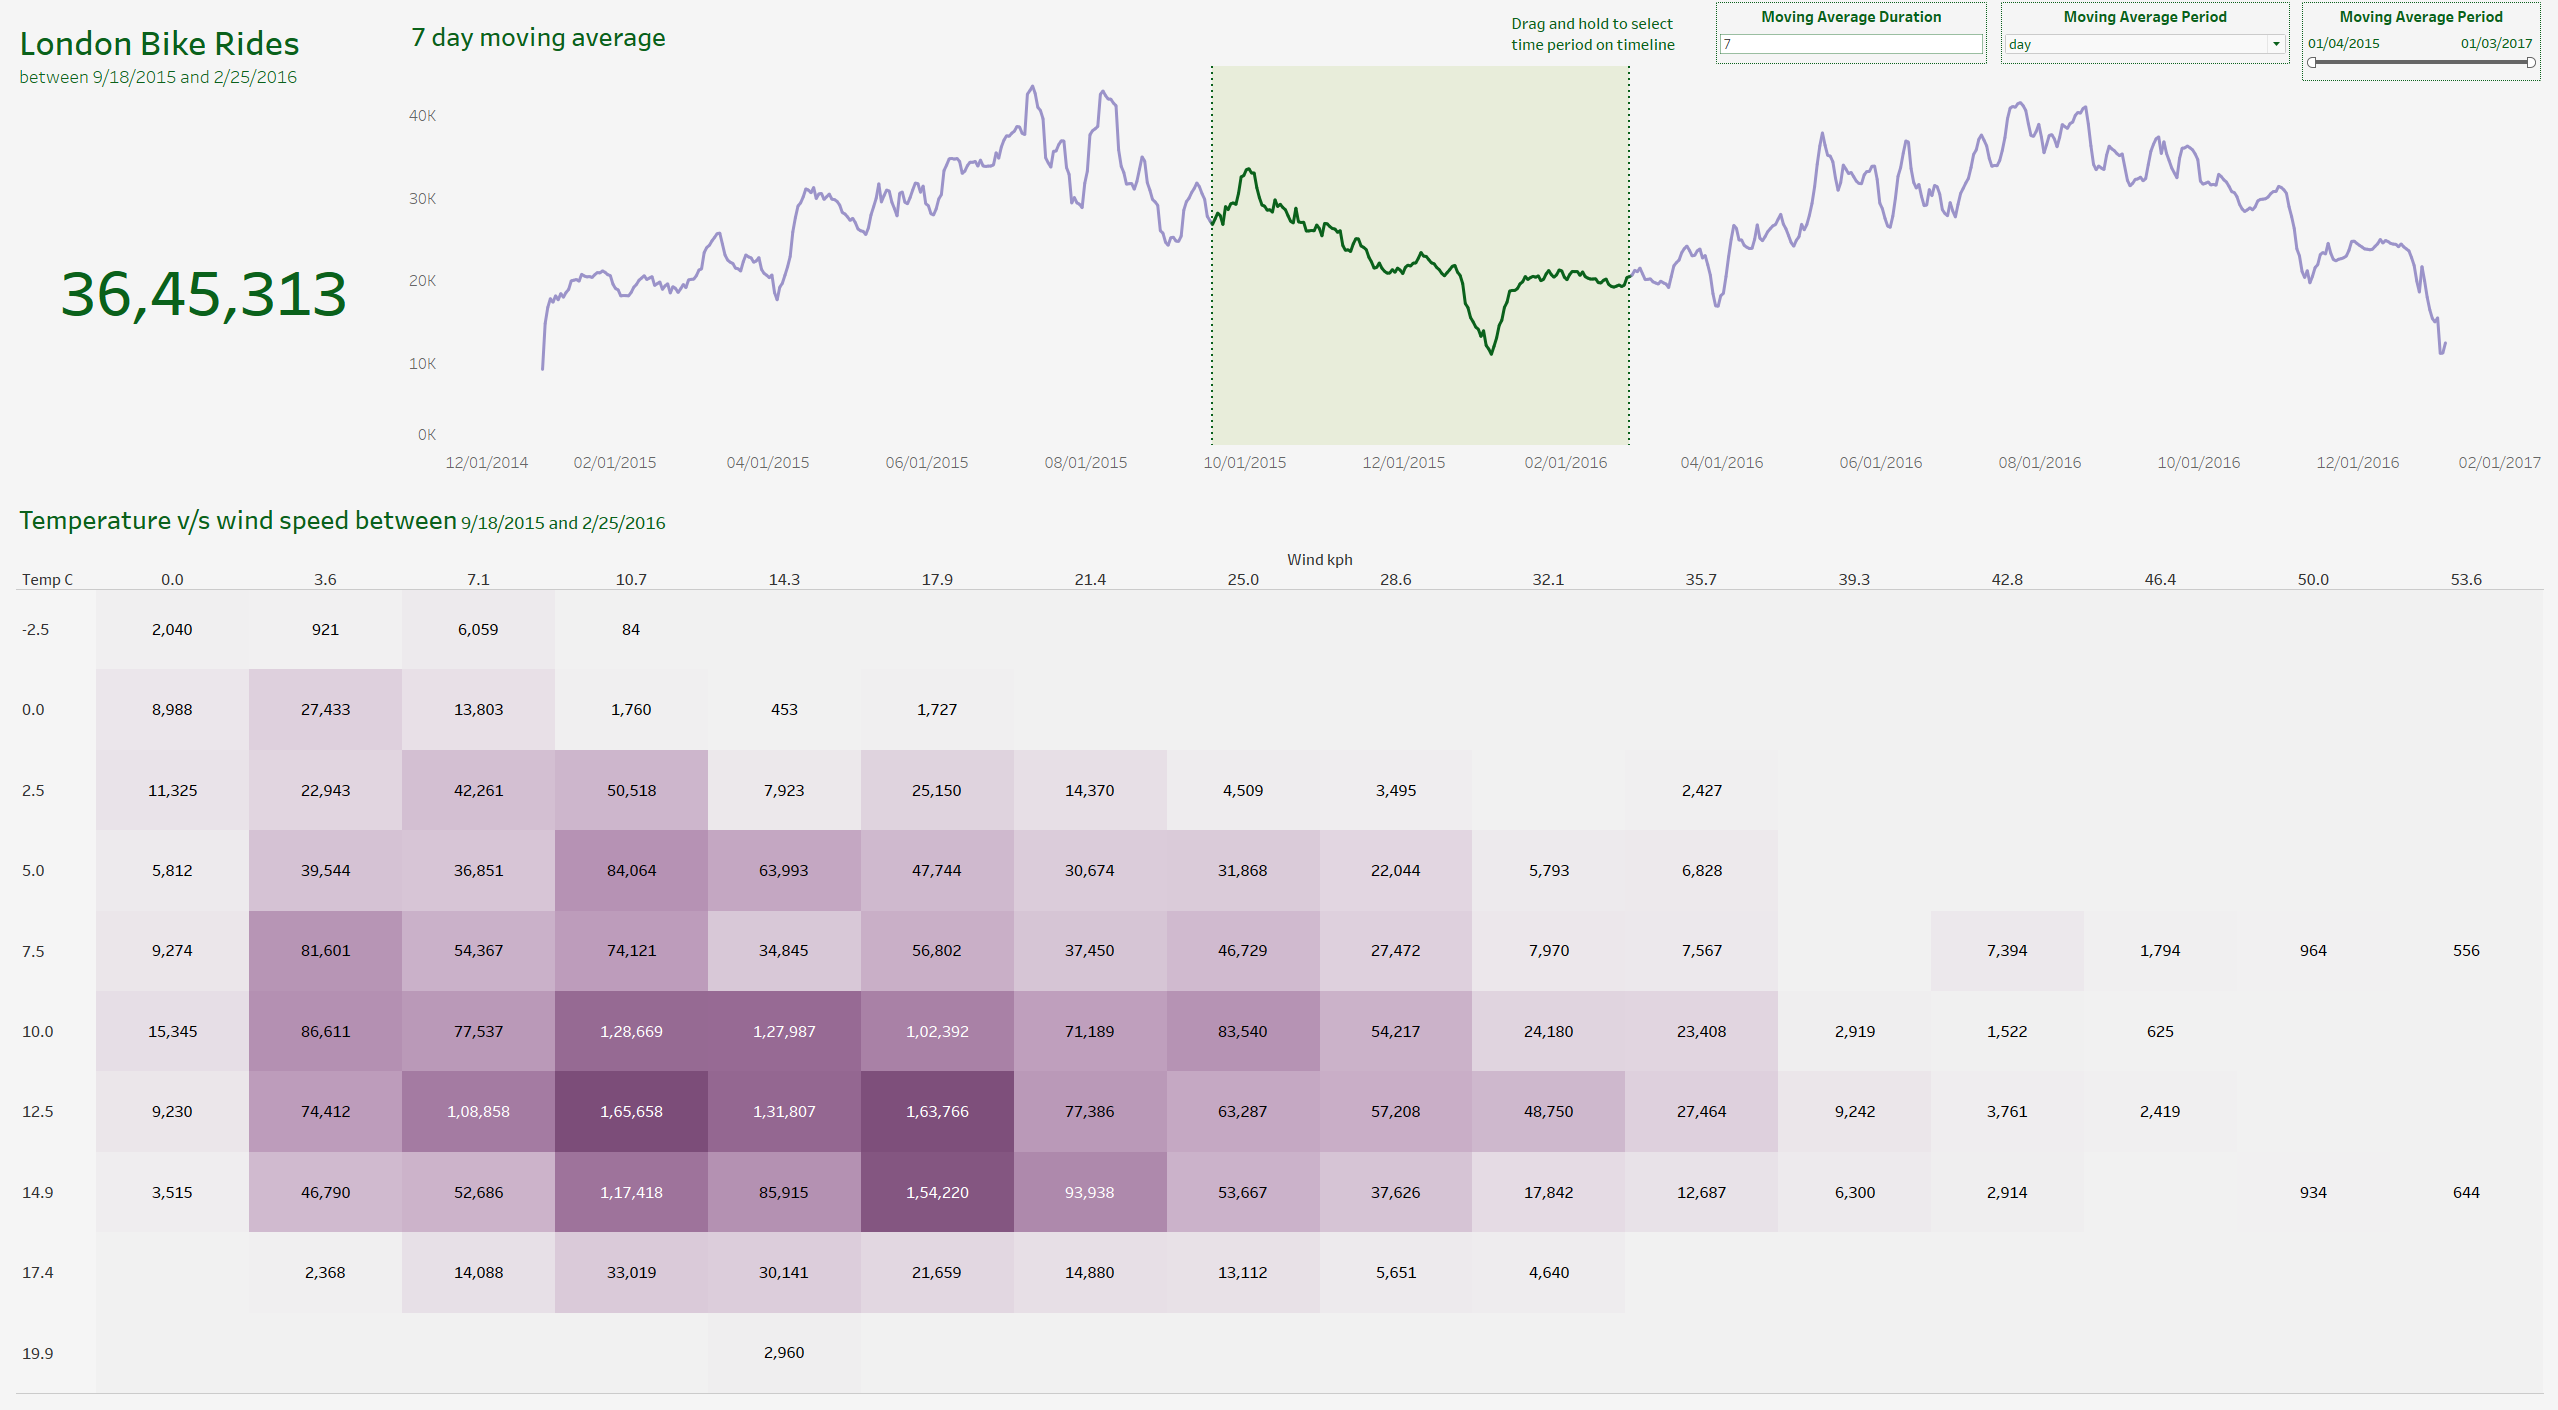

The dashboard page shown, as its layout file describes it:
{"tool":"tableau","page":{"name":"Dashboard","canvas":[1000,1000],"units":"permille","ordinal":0},"visuals":[{"type":"parameter","param":"[Parameters].[Parameter 2]","box":[670.2,1.6,105.8,43.9]},{"type":"parameter","param":"[Parameters].[Parameter 1]","box":[781.8,1.6,112.9,43.9]},{"type":"filter","title":"Moving Average","param":"[federated.0m0sfal1p3a8q21dy6njj0hthua3].[none:Calculation_1746552235062317057:q","box":[899,1.6,93.5,56.1]},{"type":"text","box":[589.1,2.4,78.9,43.9]},{"type":"worksheet","title":"Bike_Rides","mark":"Automatic","box":[3.5,6.5,152.9,341.7]},{"type":"worksheet","title":"Moving Average","mark":"Automatic","rows":["Calculation1"],"cols":["Calculation_1746552235062317057"],"box":[156.4,6.5,840.1,341.7]},{"type":"worksheet","title":"Heatmap","mark":"Square","rows":["temp real C (bin)"],"cols":["Wind Speed Kph (bin)"],"box":[3.5,348.2,992.9,645.3]}]}

Visuals, with their boxes on the dashboard's canvas, which has no fixed pixel size, in thousandths of its width and height (x1, y1, x2, y2). These are canvas units, not pixel positions in the 2558x1410 screenshot, which may show the page scaled, cropped or inside an application window:
parameter: detection(670, 2, 776, 46)
parameter: detection(782, 2, 895, 46)
"Moving Average" filter: detection(899, 2, 992, 58)
text: detection(589, 2, 668, 46)
"Bike_Rides" worksheet: detection(4, 6, 156, 348)
"Moving Average" worksheet: detection(156, 6, 996, 348)
"Heatmap" worksheet (Square marks): detection(4, 348, 996, 994)
